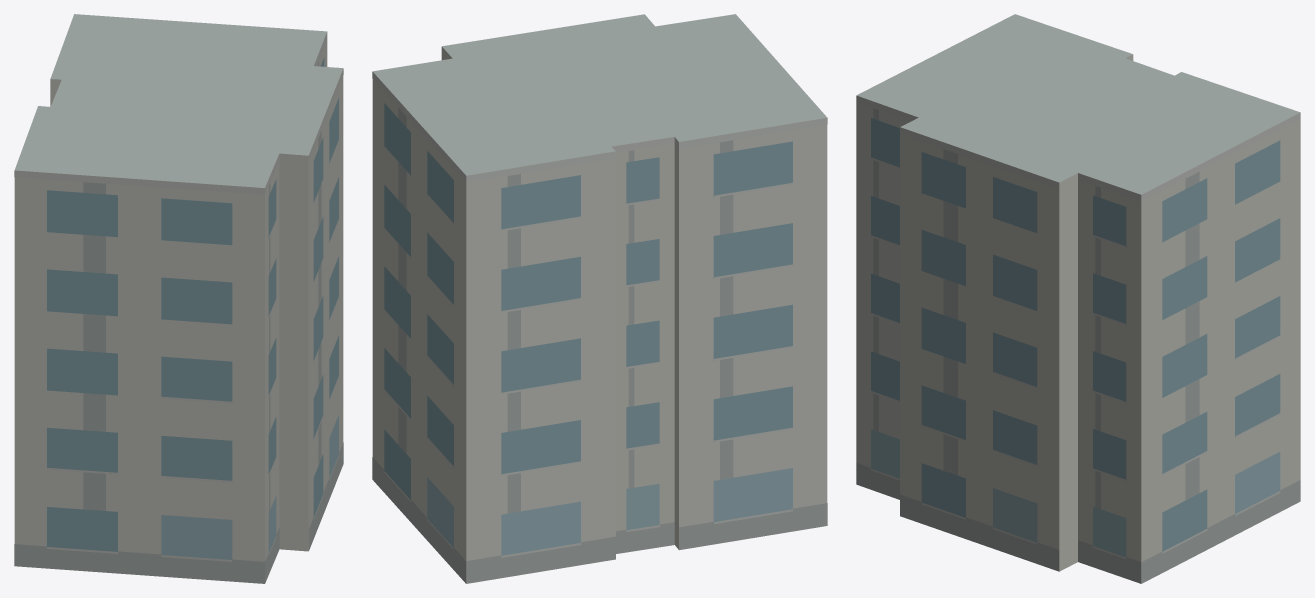
The model's file is survey-upis-32700881.glb.
The picture shows the model from 3 angles, left to right: view 1: azimuth 30°, elevation 25°; view 2: azimuth 150°, elevation 25°; view 3: azimuth 270°, elevation 25°; orthographic projection. The views are drawn at different scales.
Parts seen in each view (by area): view 1: survey-upis-32700881.tmp; view 2: survey-upis-32700881.tmp; view 3: survey-upis-32700881.tmp.
Boxes of the visible parts, x1,y1,x2,y2 form: survey-upis-32700881.tmp: [14, 14, 343, 583]; survey-upis-32700881.tmp: [372, 14, 827, 583]; survey-upis-32700881.tmp: [856, 14, 1300, 583].
Size of the model in its own units: 13.96 by 14 by 14.5.
